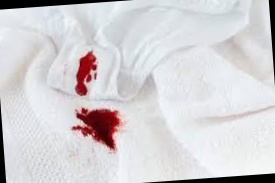blood: (74, 104, 123, 154), (75, 52, 97, 95)
